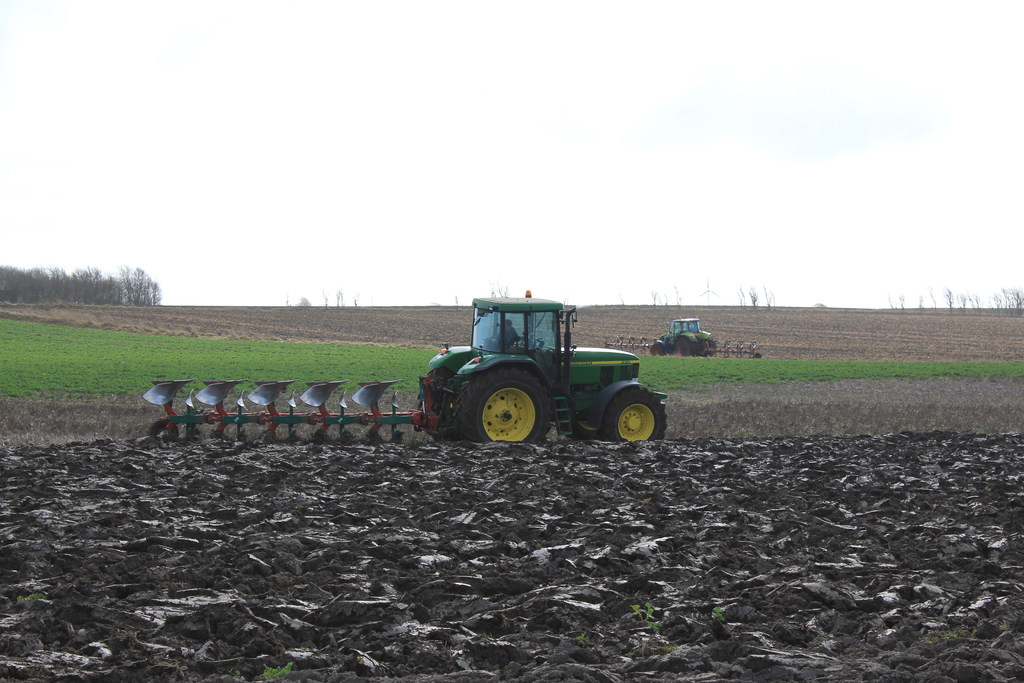Tree: (0, 256, 167, 307)
